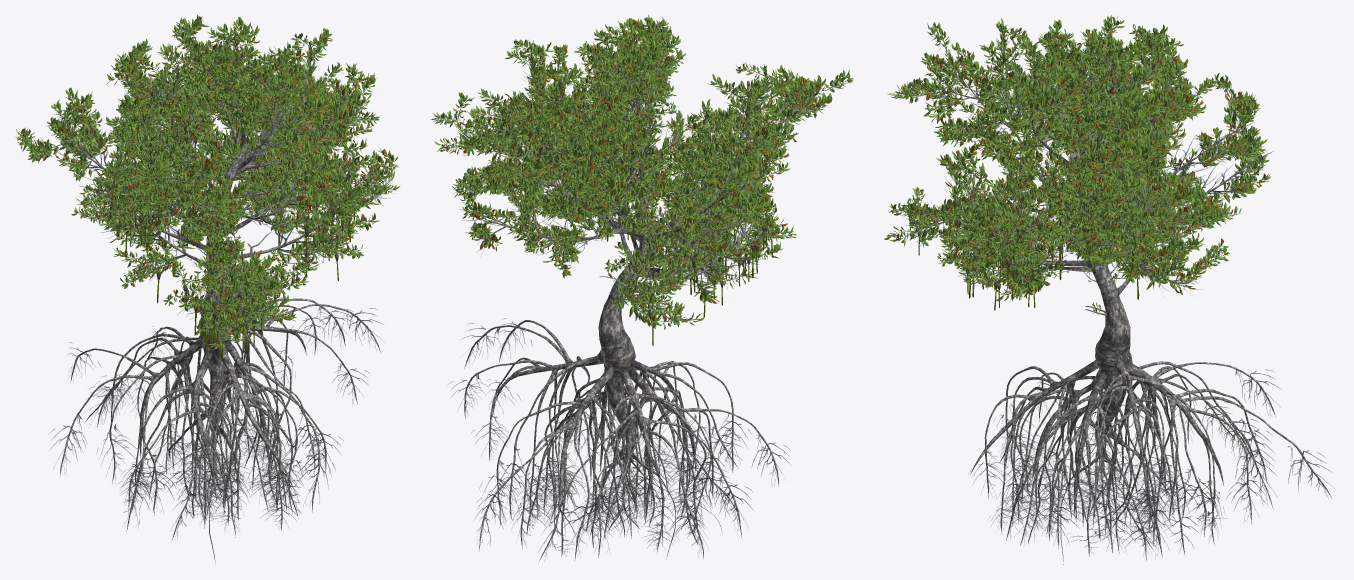
The model's file is mangle_model.glb.
The picture shows the model from 3 angles, left to right: view 1: azimuth 30°, elevation 25°; view 2: azimuth 150°, elevation 25°; view 3: azimuth 270°, elevation 25°; orthographic projection. The views are drawn at different scales.
Parts seen in each view (by area): view 1: Object_3, Object_9, Object_8, Object_7, Object_5, Object_6, Object_4, Object_11, Object_10; view 2: Object_3, Object_9, Object_6, Object_7, Object_5, Object_8, Object_4, Object_11, Object_10; view 3: Object_3, Object_7, Object_9, Object_8, Object_6, Object_5, Object_4, Object_11.
Boxes of the visible parts, x1,y1,x2,y2 form: Object_3: (28,25,381,563); Object_9: (23,30,394,344); Object_8: (71,43,399,328); Object_7: (49,14,334,245); Object_5: (29,36,391,539); Object_6: (15,16,379,243); Object_4: (21,38,393,343); Object_11: (116,89,355,360); Object_10: (104,169,267,350); Object_3: (460,26,823,561); Object_9: (452,27,824,329); Object_6: (458,16,853,262); Object_7: (452,14,817,256); Object_5: (447,47,822,561); Object_8: (430,71,790,289); Object_4: (437,43,848,321); Object_11: (597,121,773,345); Object_10: (639,218,757,288); Object_3: (894,24,1331,564); Object_7: (887,14,1268,283); Object_9: (906,25,1261,314); Object_8: (884,36,1259,300); Object_6: (920,22,1270,262); Object_5: (908,32,1335,557); Object_4: (893,28,1273,315); Object_11: (917,100,1165,310).
Size of the model in its own units: 2456 by 3589 by 2698.
Materials: 5 (5 with a texture image).
